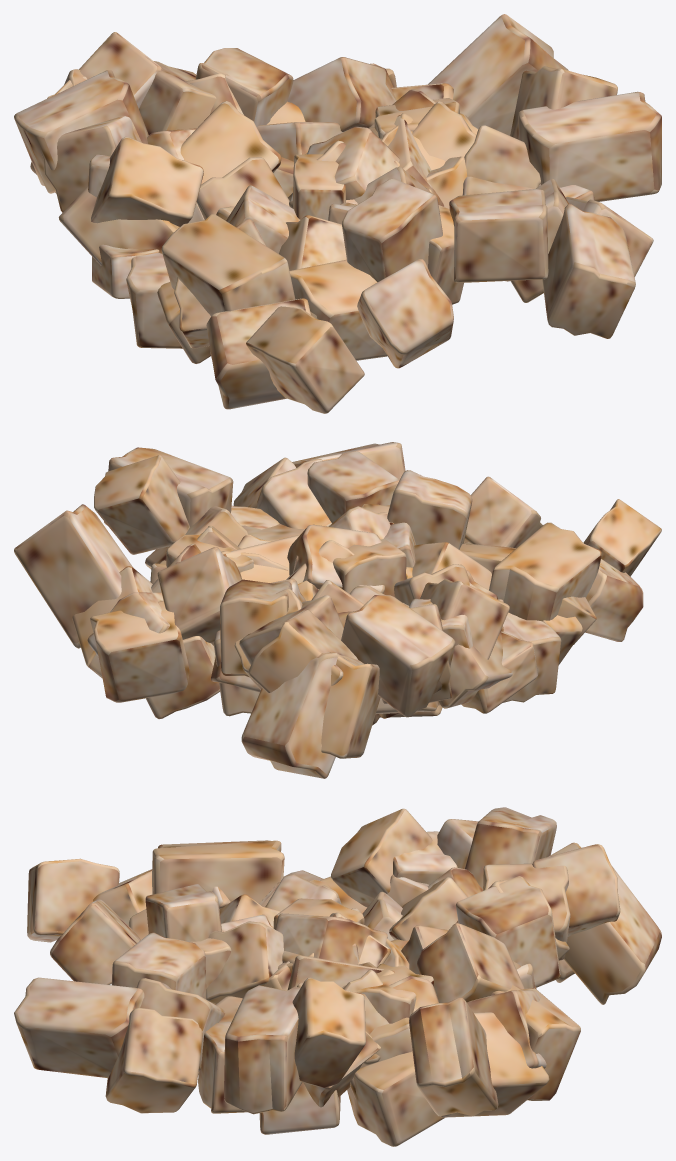
The model's file is SM_PizzaTopping_Chicken_Grouped.fbx.
3 renders of one model, top to bottom at view 1: azimuth 30°, elevation 25°; view 2: azimuth 150°, elevation 25°; view 3: azimuth 270°, elevation 25°, orthographic. The views are drawn at different scales.
Visible parts, largest first — view 1: SM_PizzaTopping_Chicken_Grouped; view 2: SM_PizzaTopping_Chicken_Grouped; view 3: SM_PizzaTopping_Chicken_Grouped.
Boxes of the visible parts, x1,y1,x2,y2 form: SM_PizzaTopping_Chicken_Grouped: (14,14,661,413); SM_PizzaTopping_Chicken_Grouped: (14,442,661,778); SM_PizzaTopping_Chicken_Grouped: (14,807,661,1146).
Bounding box in the file's own units: 13.74 × 5.16 × 15.53.
